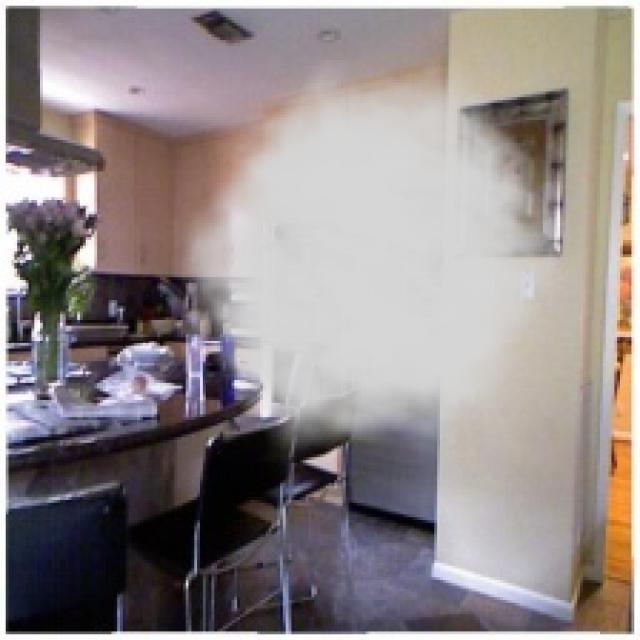Smoke: (165, 60, 580, 466)
